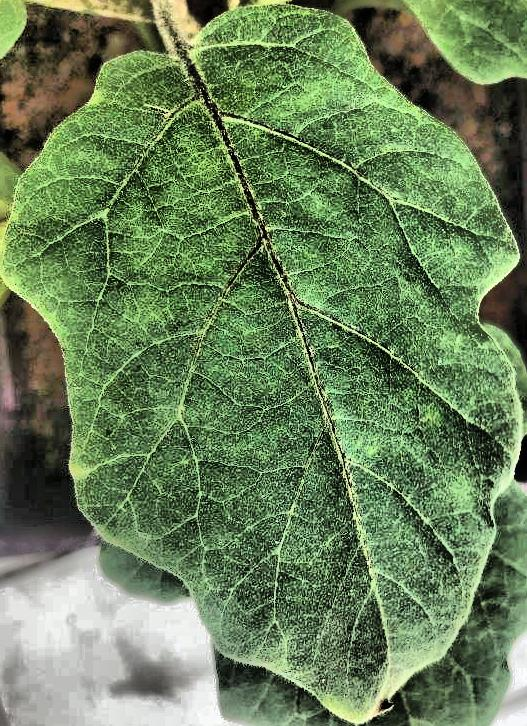HEALTHY: (1, 1, 527, 726)
